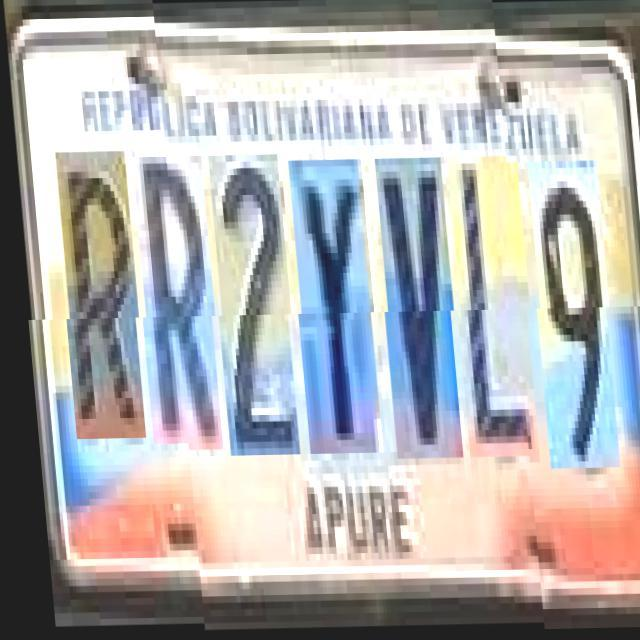2: (205, 156, 295, 457)
9: (524, 156, 614, 464)
L: (444, 158, 534, 459)
R: (128, 156, 218, 452), (52, 158, 142, 446)
V: (372, 159, 458, 460)
Y: (285, 160, 378, 456)
